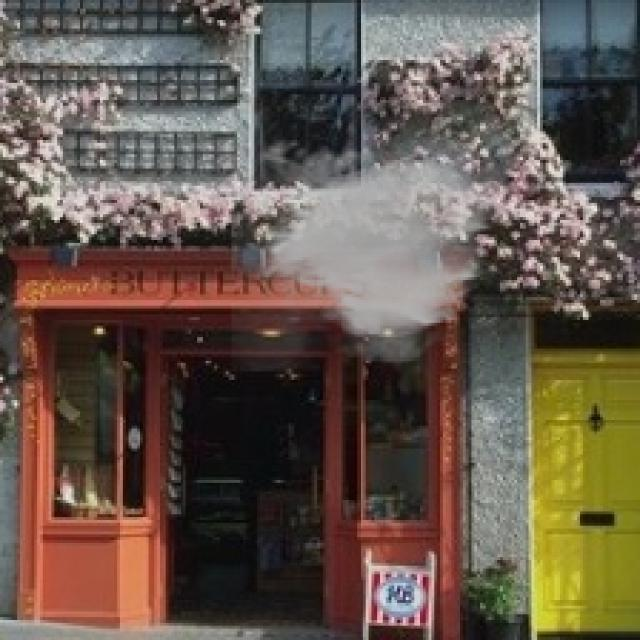Smoke: (231, 132, 503, 372)
